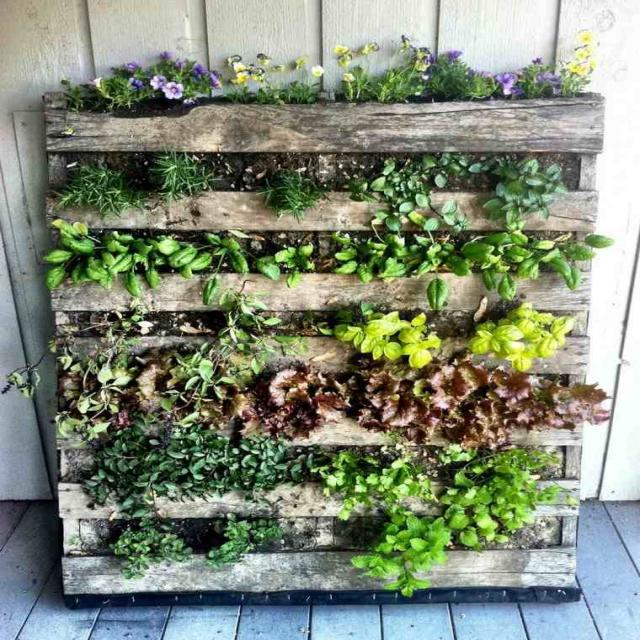Palette: (41, 70, 596, 618)
